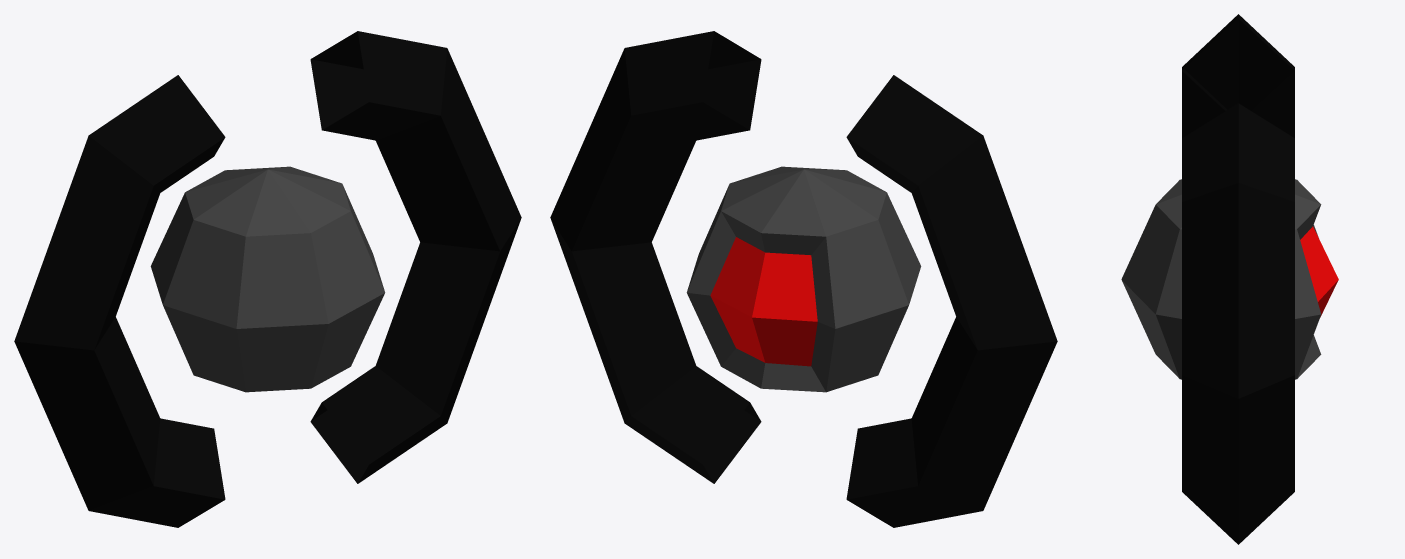
The model's file is Lvl3Enemy.fbx.
The picture shows the model from 3 angles, left to right: view 1: azimuth 30°, elevation 25°; view 2: azimuth 150°, elevation 25°; view 3: azimuth 270°, elevation 25°; orthographic projection. The views are drawn at different scales.
Visible parts, largest first — view 1: Lvl3EnemyRing, Lvl3EnemyBase; view 2: Lvl3EnemyRing, Lvl3EnemyBase; view 3: Lvl3EnemyRing, Lvl3EnemyBase.
Boxes of the visible parts, box(x1,y1,x2,y2) form: Lvl3EnemyRing: box(14, 31, 521, 527); Lvl3EnemyBase: box(150, 166, 385, 392); Lvl3EnemyRing: box(550, 31, 1057, 527); Lvl3EnemyBase: box(686, 166, 921, 392); Lvl3EnemyRing: box(1182, 14, 1294, 544); Lvl3EnemyBase: box(1121, 179, 1338, 379).
Bounding box in the file's own units: 250 × 250 × 135.
